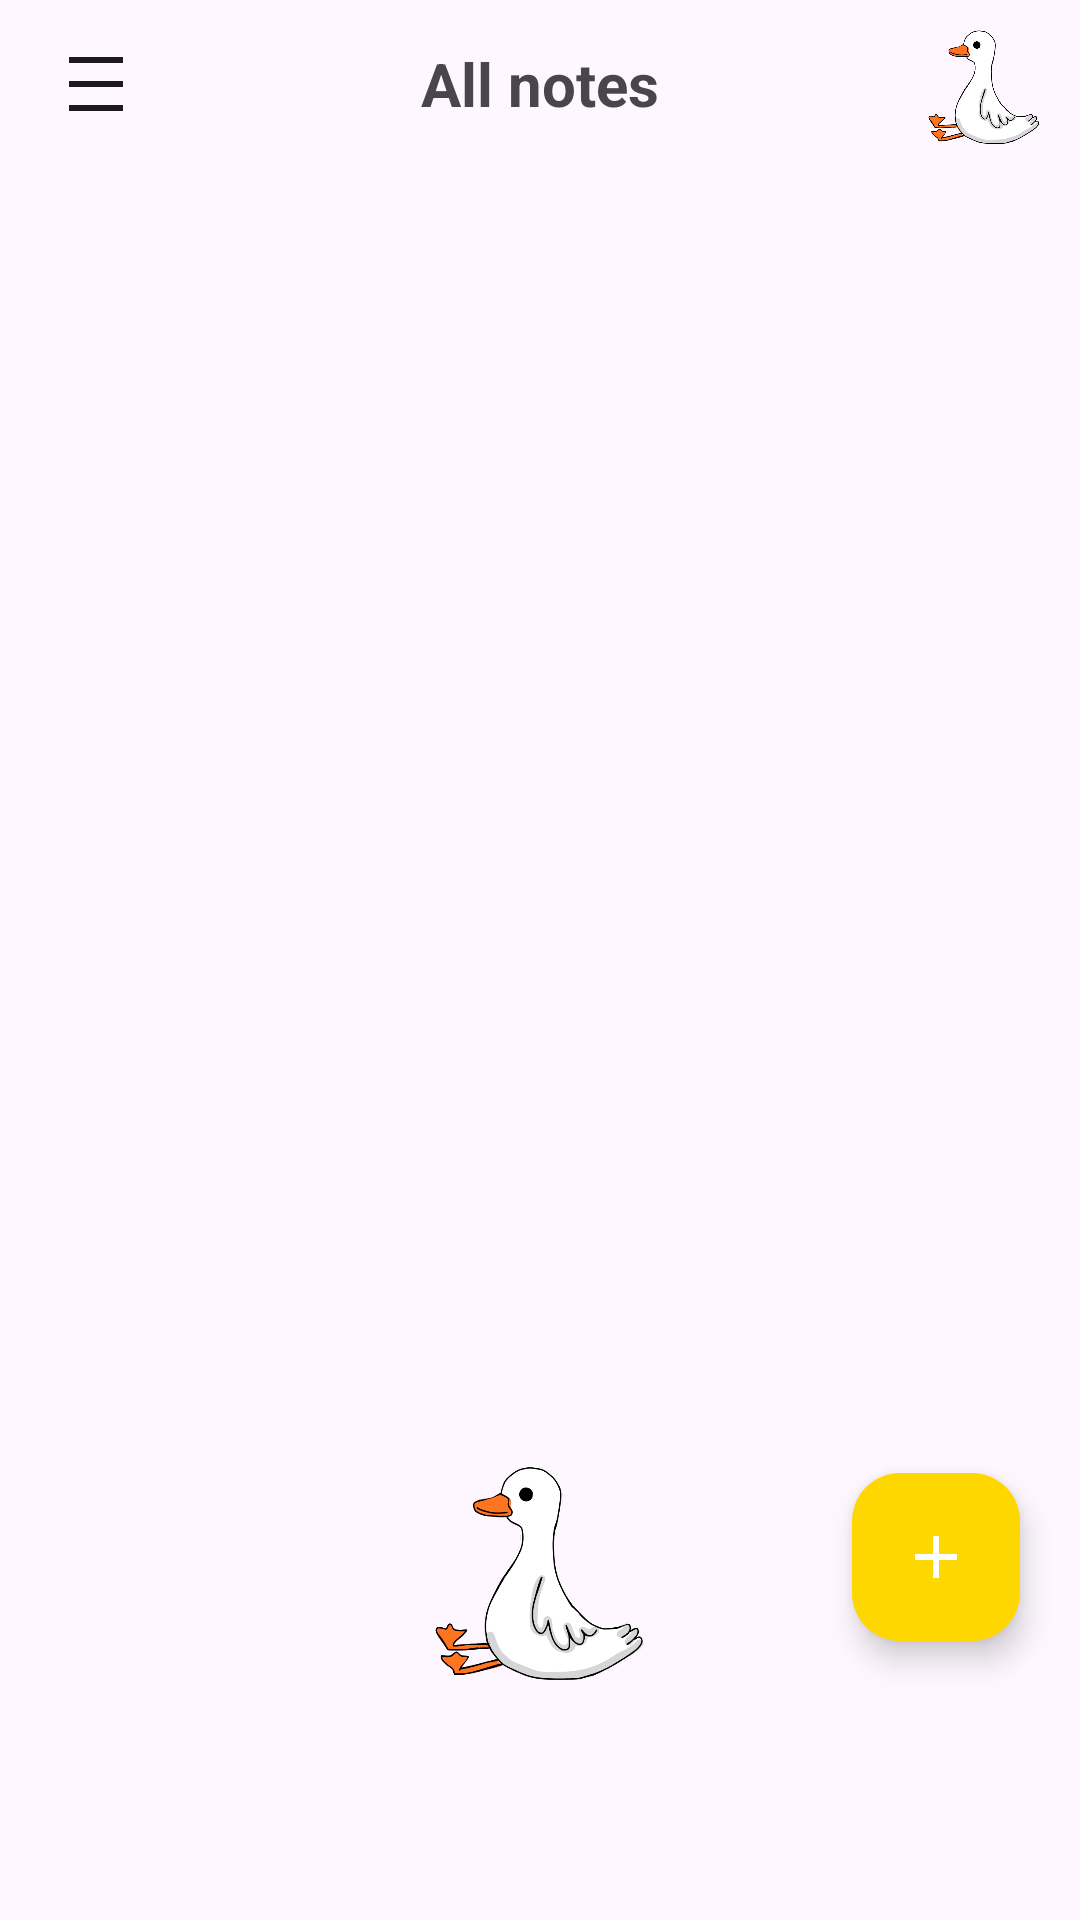

Icons on this 1080w x 1920h Android screen, each with its box as (x1, y1, x2, y2):
add: (852, 1473, 1020, 1641)
Goose: (435, 1467, 643, 1680)
Goose header: (928, 30, 1039, 144)
